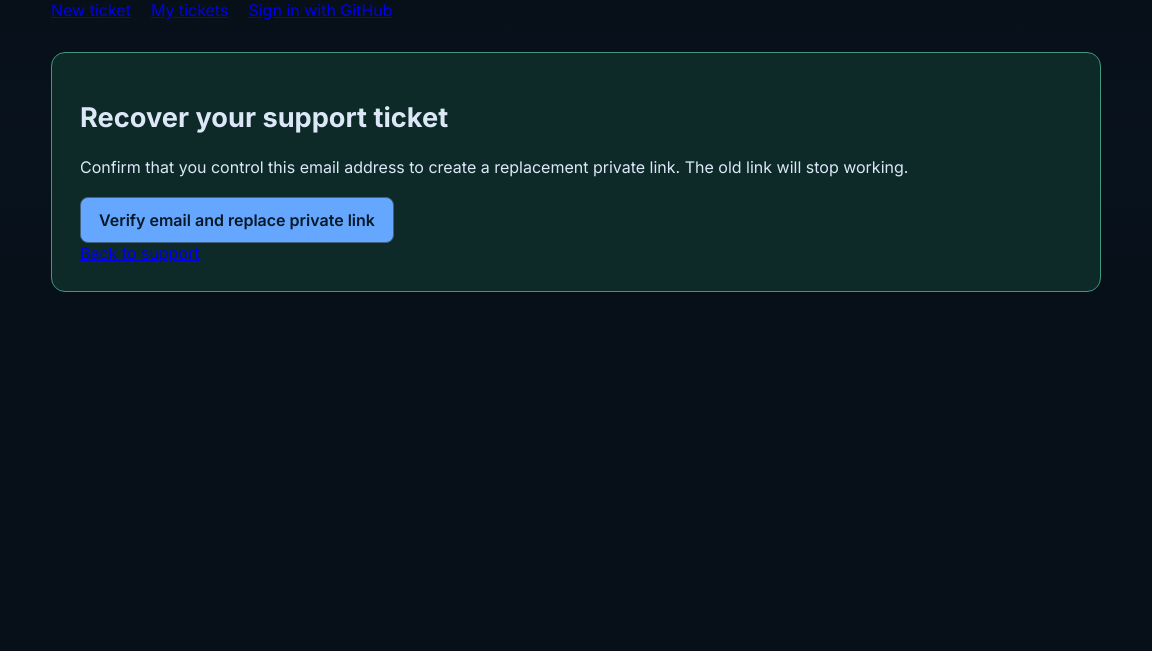
Test: email recovery fragment is redeemed in a request body and the replaced capability opens the ticket
Click the button "Verify email and replace private link" at (237, 220), box [80,197,394,243]
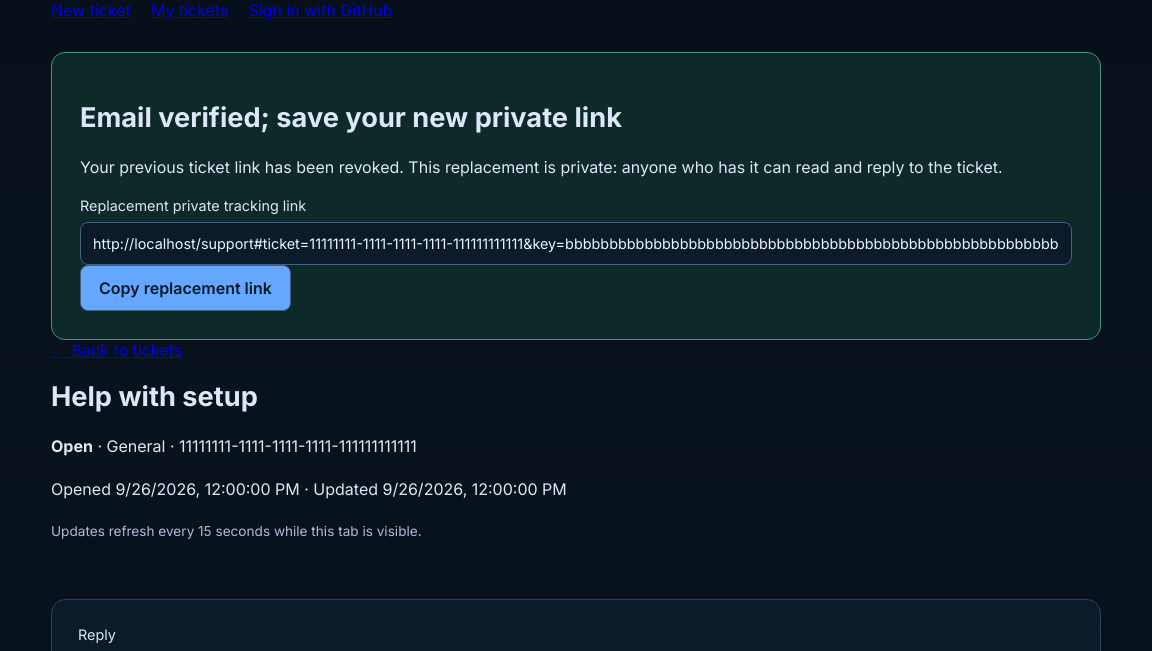
Expected: the heading "Help with setup" is shown, [51,380,258,413]
